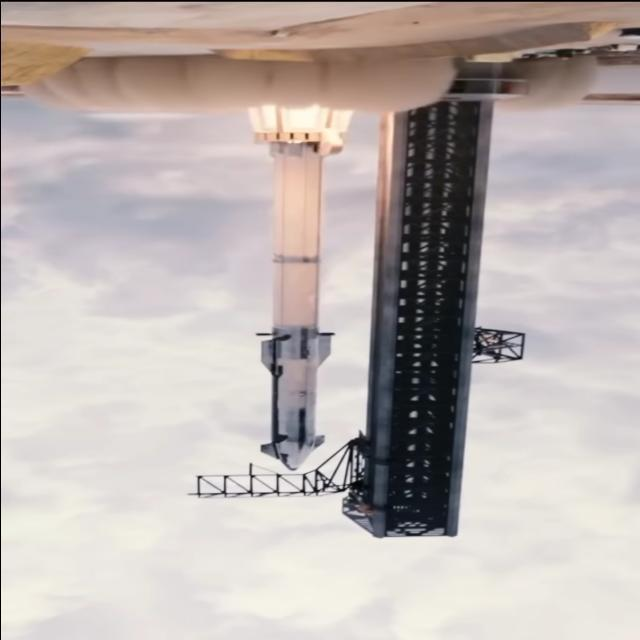missile: (249, 99, 331, 469)
